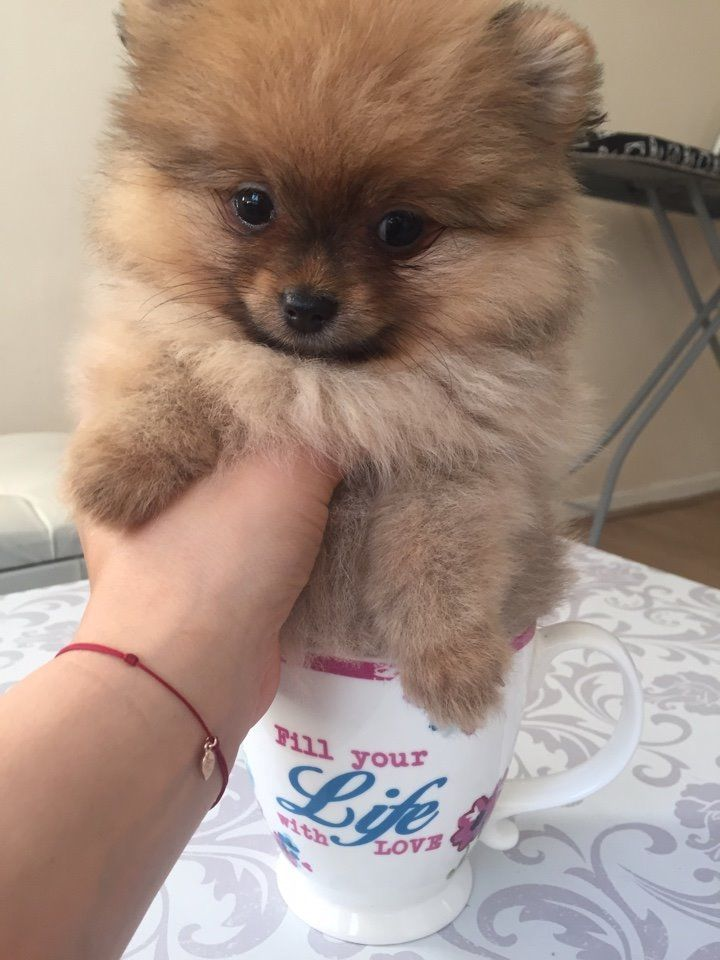pomeranian: (80, 5, 615, 536)
